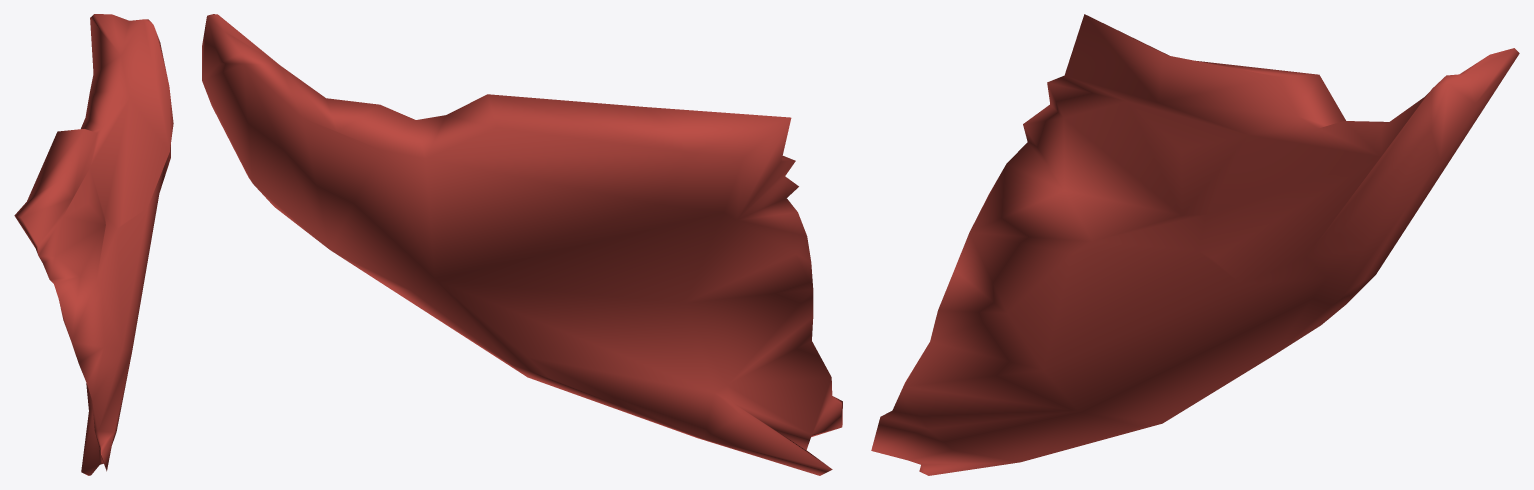
File: musculos-inferior-head-of-lateral-pterygoid-muscle-l.glb
3 views of the same model, side by side, from view 1: azimuth 30°, elevation 25°; view 2: azimuth 150°, elevation 25°; view 3: azimuth 270°, elevation 25° (orthographic). The views are drawn at different scales.
Parts seen in each view (by area): view 1: Inferior head of lateral pterygoid muscle.l; view 2: Inferior head of lateral pterygoid muscle.l; view 3: Inferior head of lateral pterygoid muscle.l.
Boxes of the visible parts, bbox=[...] form: Inferior head of lateral pterygoid muscle.l: bbox=[14, 14, 173, 475]; Inferior head of lateral pterygoid muscle.l: bbox=[202, 14, 842, 475]; Inferior head of lateral pterygoid muscle.l: bbox=[871, 14, 1519, 475].
Bounding box in the file's own units: 0.0177 × 0.0225 × 0.0228.
